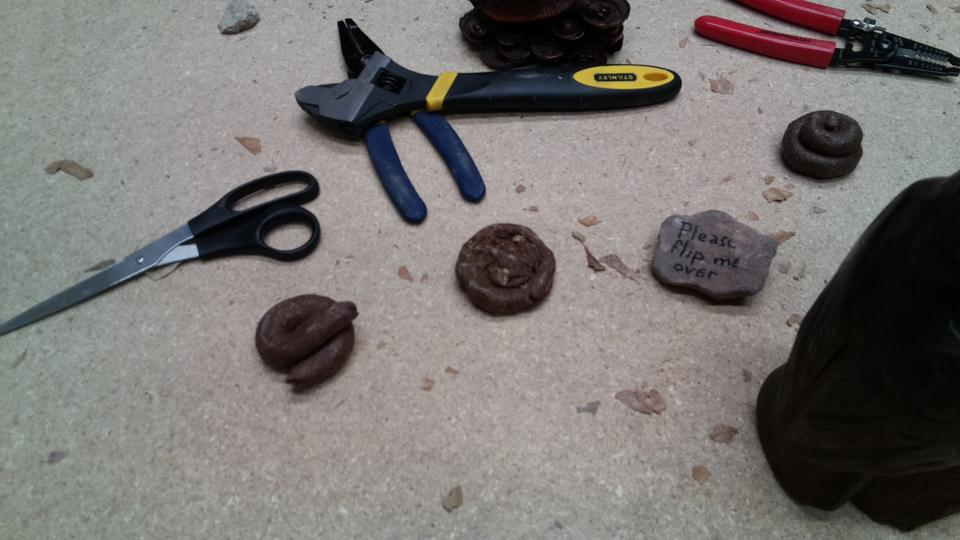poop: (252, 290, 361, 395), (454, 219, 559, 321), (777, 107, 866, 184)
